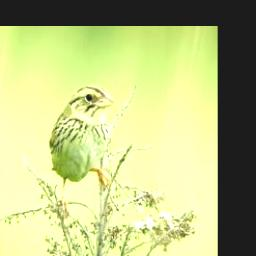Sparrow: (48, 85, 115, 217)
